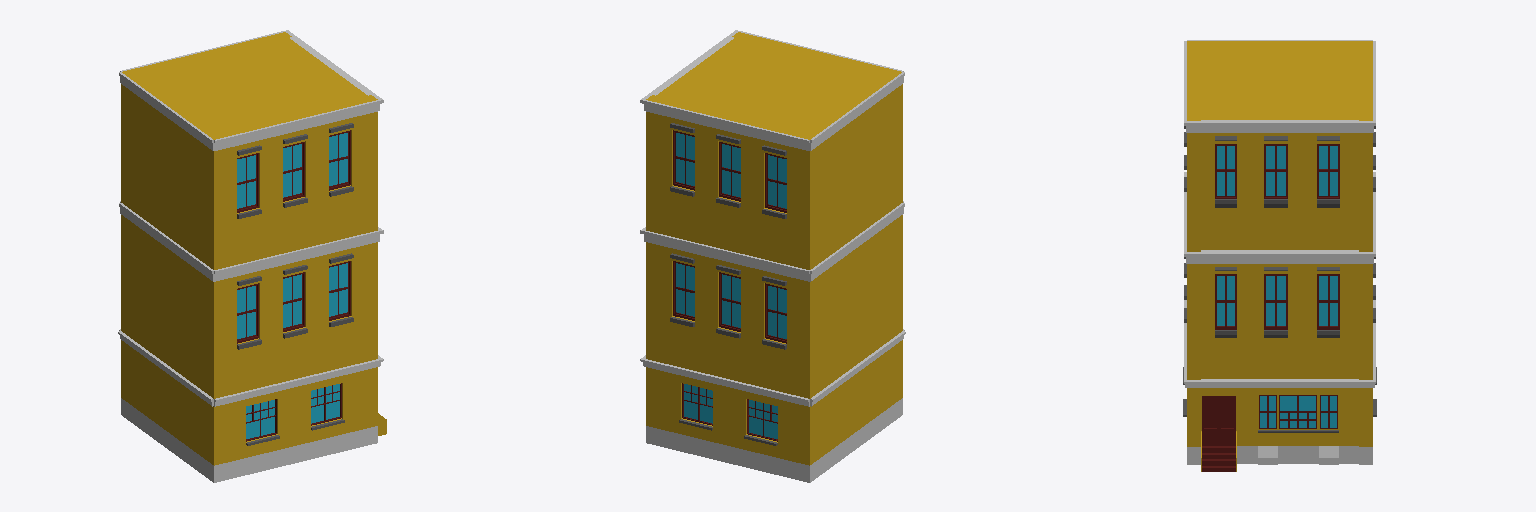
The model's file is Building02.obj.
The picture shows the model from 3 angles: view 1: azimuth 30°, elevation 25°; view 2: azimuth 150°, elevation 25°; view 3: azimuth 270°, elevation 25°; orthographic projection.
Parts seen in each view (by area): view 1: Cube.001, Cube; view 2: Cube.001, Cube; view 3: Cube.001, Cube, Cube.002.
Boxes of the visible parts, <box> form: Cube.001: <box>119,30,383,398</box>; Cube: <box>118,329,383,482</box>; Cube.001: <box>640,30,904,398</box>; Cube: <box>640,329,905,482</box>; Cube.001: <box>1184,40,1375,379</box>; Cube: <box>1183,300,1376,464</box>; Cube.002: <box>1201,431,1236,471</box>.
Bounding box in the file's own units: 1.14 × 2.04 × 1.04.